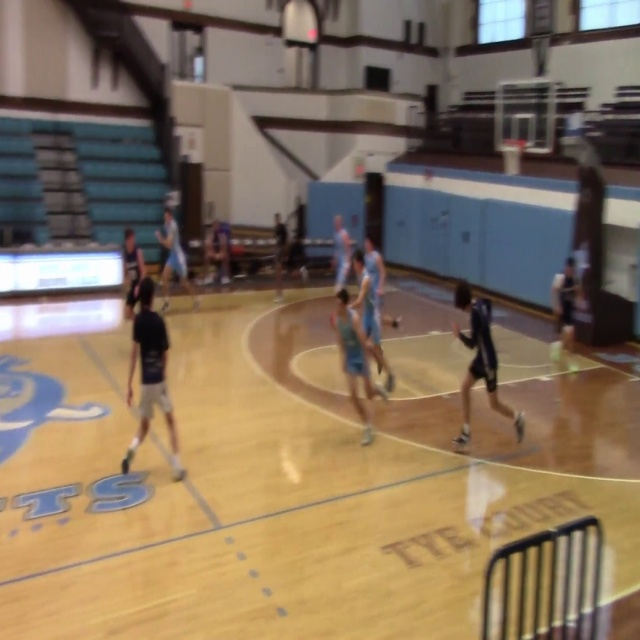Basketball: (454, 282, 471, 309), (548, 341, 563, 362), (391, 316, 401, 328)
